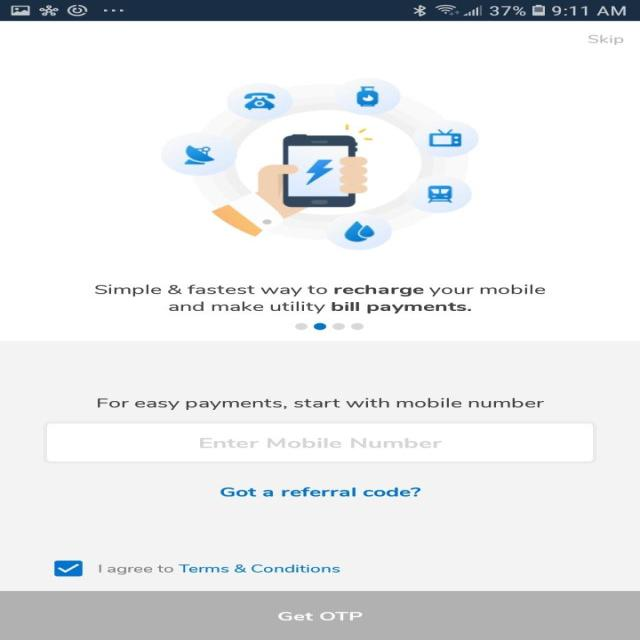EditText: (44, 422, 596, 464)
Image: (160, 77, 479, 250)
Text: (94, 284, 545, 314), (97, 397, 544, 410), (200, 438, 442, 448), (98, 564, 340, 574), (220, 486, 420, 496), (588, 34, 624, 45)
TextButton: (0, 590, 639, 640)
